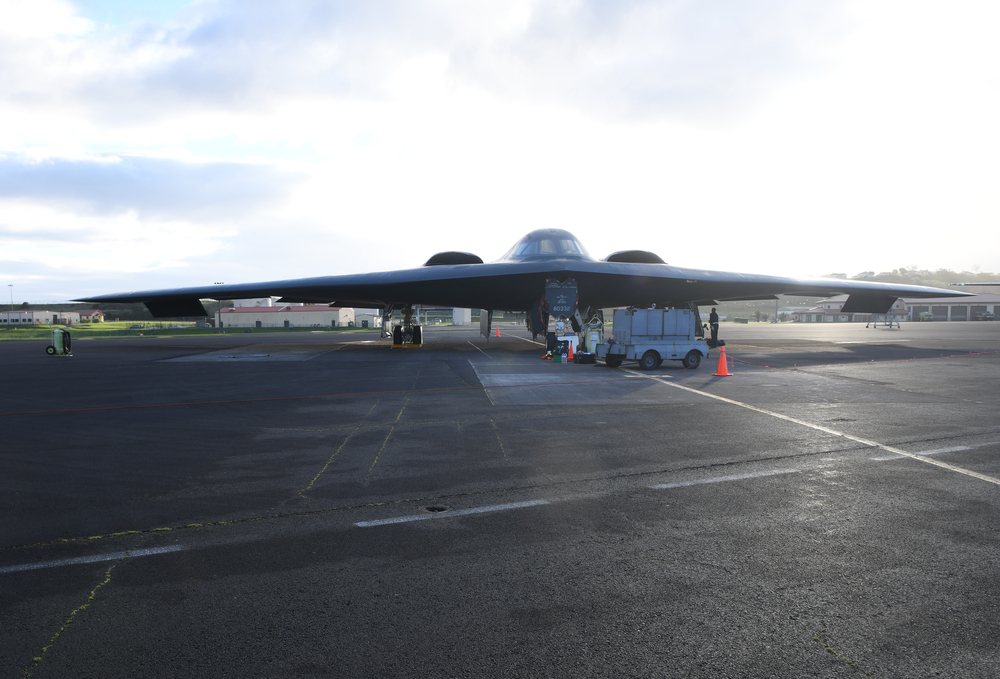B2: (68, 227, 979, 355)
